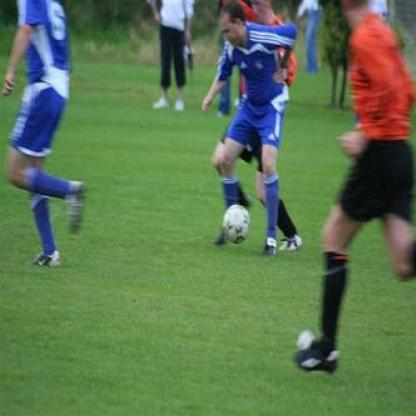ball: (222, 203, 251, 245)
